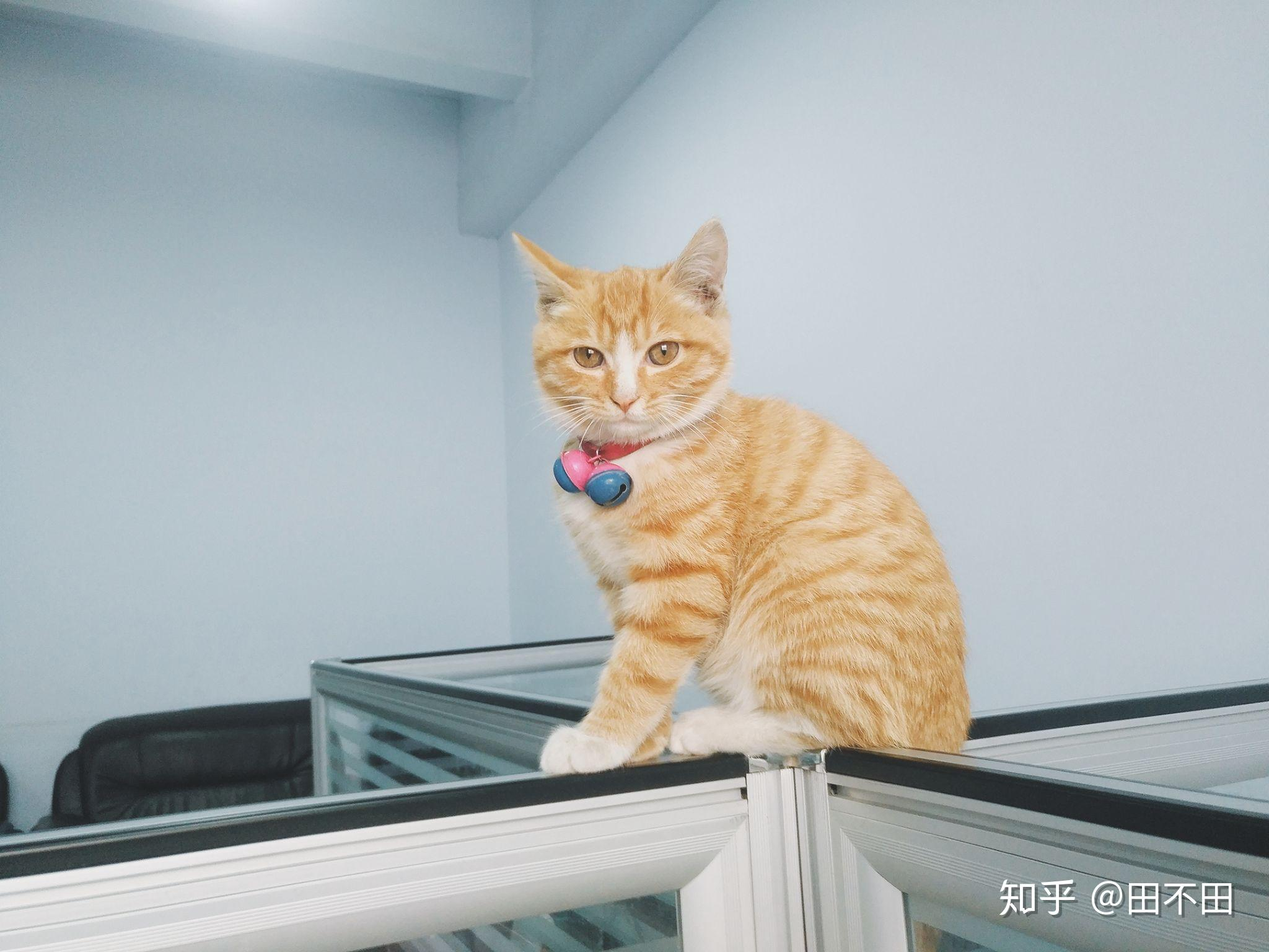橘猫: (517, 220, 968, 773)
